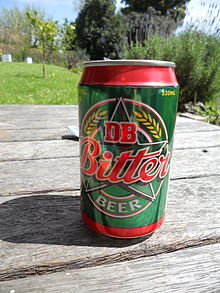beer can: (77, 60, 166, 241)
